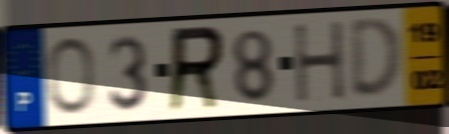3: (106, 32, 149, 114)
8: (228, 27, 279, 104)
D: (347, 15, 406, 103)
H: (291, 18, 348, 106)
O: (44, 34, 98, 117)
R: (165, 23, 228, 116)
